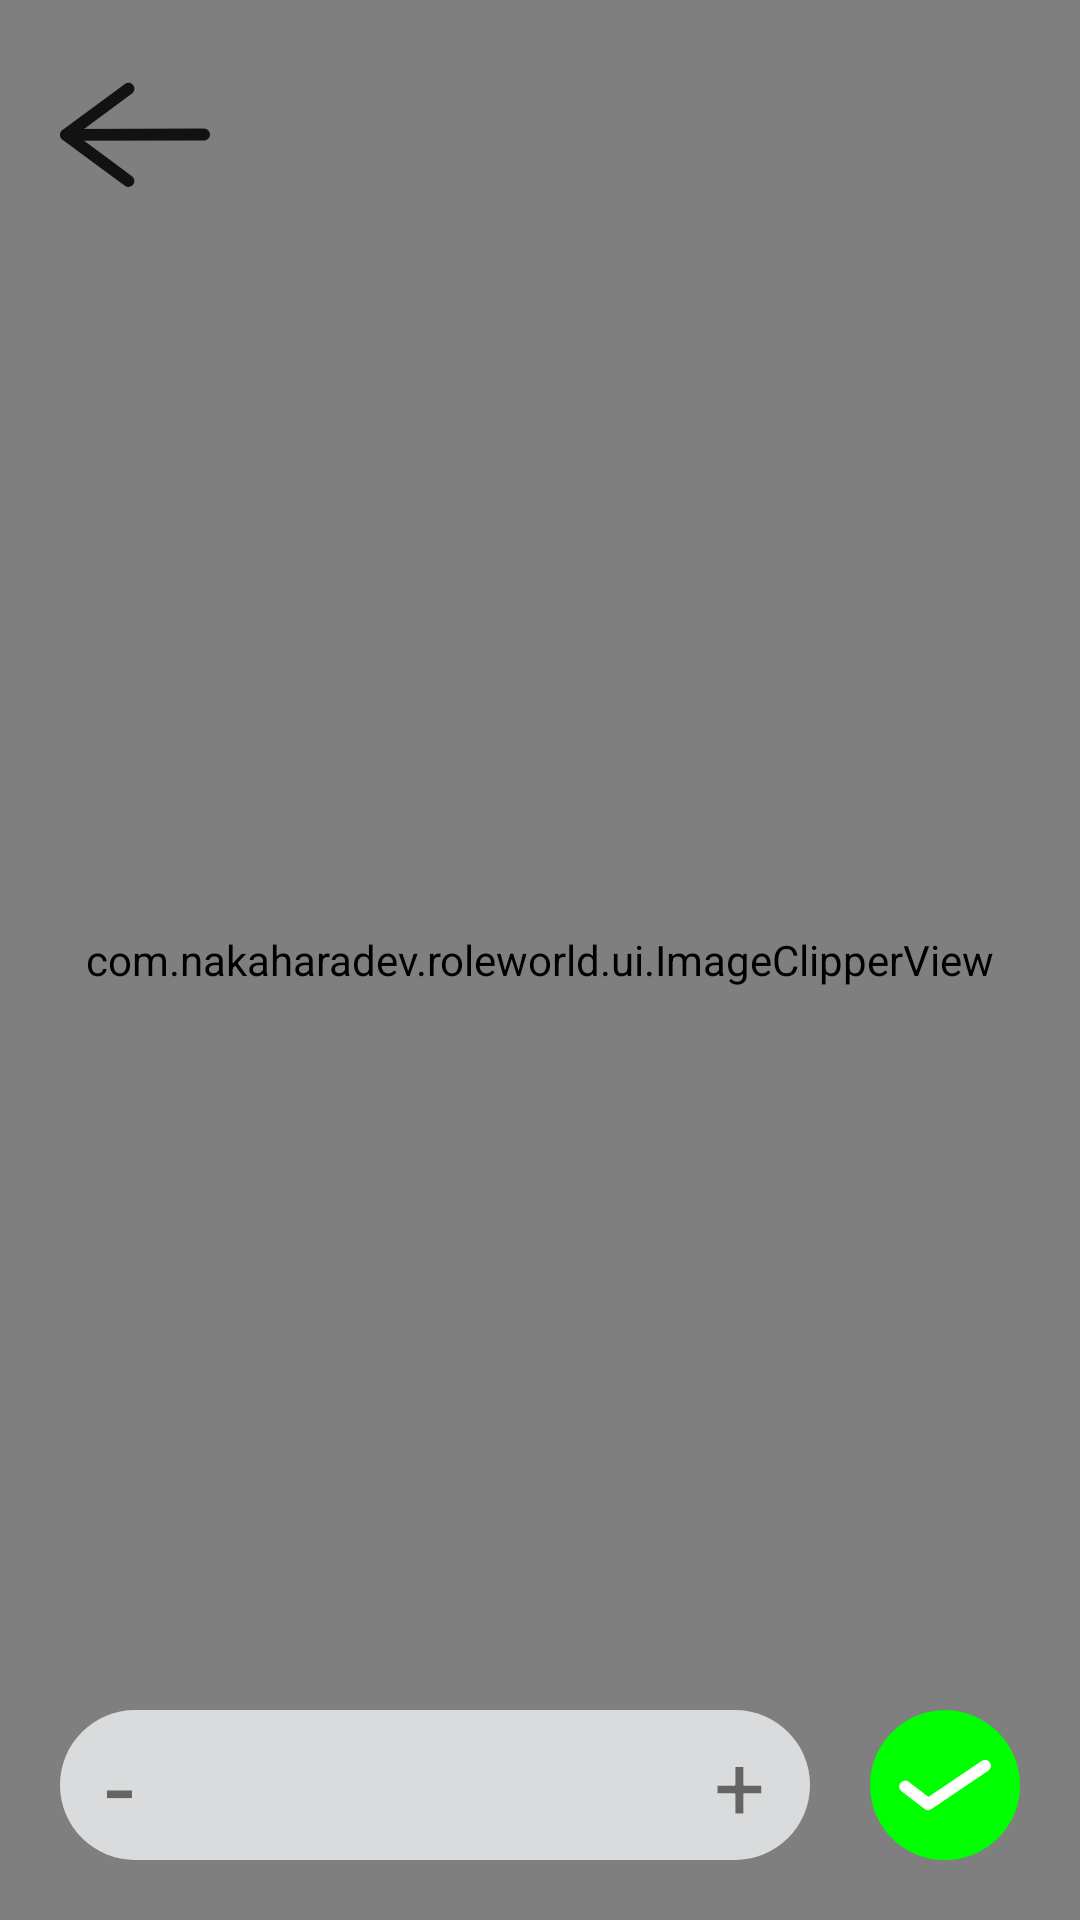

Named icons in this screenshot (1080 x 1920) and their bounding boxes, (x1, y1, x2, y2):
back: (60, 82, 210, 187)
done: (870, 1710, 1020, 1860)
